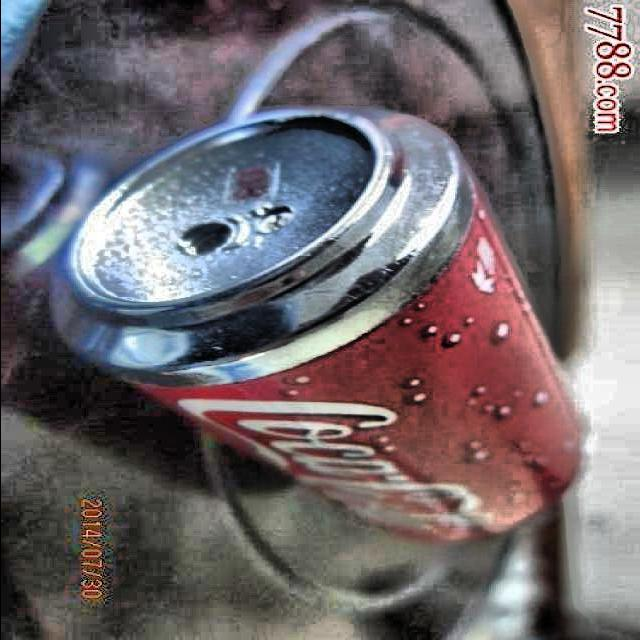litter: (46, 98, 598, 559)
